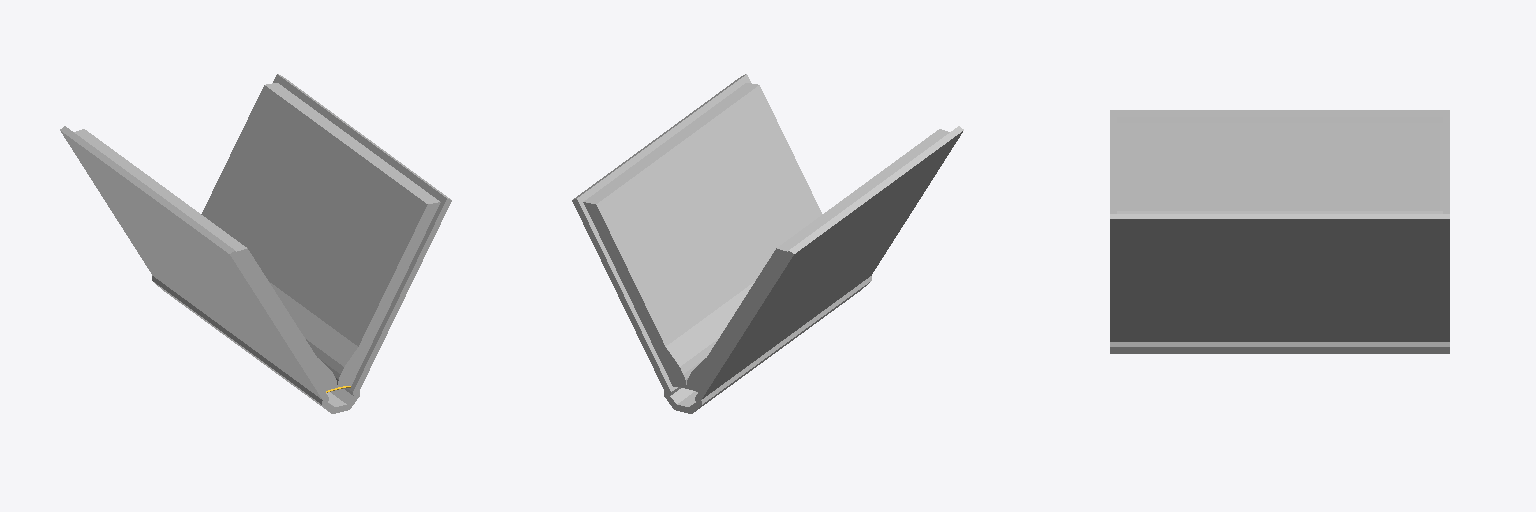
The model's file is book60.obj.
3 views of the same model, side by side, from view 1: azimuth 30°, elevation 25°; view 2: azimuth 150°, elevation 25°; view 3: azimuth 270°, elevation 25° (orthographic).
Visible parts, largest first — view 1: 1_Paper, 00_Cover; view 2: 1_Paper, 00_Cover; view 3: 00_Cover, 1_Paper.
Boxes of the visible parts, x1,y1,x2,y2 form: 1_Paper: [74, 83, 440, 391]; 00_Cover: [60, 74, 451, 413]; 1_Paper: [583, 83, 949, 391]; 00_Cover: [572, 74, 963, 413]; 00_Cover: [1110, 110, 1449, 353]; 1_Paper: [1117, 117, 1442, 213].
Bounding box in the file's own units: 75.46 × 60.89 × 100.